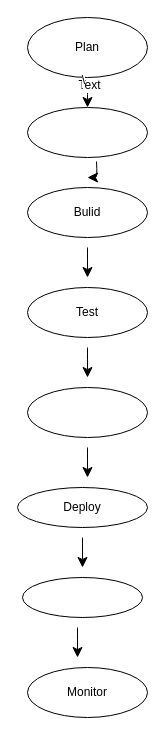
This 165x735 diagram has some shape labels left out. Each missing label, with the centre of its shape:
"Develop" belongs at [87,132].
"Operate" belongs at [82,597].
"Release" belongs at [87,412].
